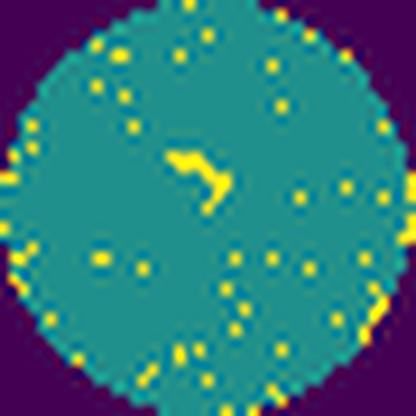Loc: (165, 145, 236, 216)
